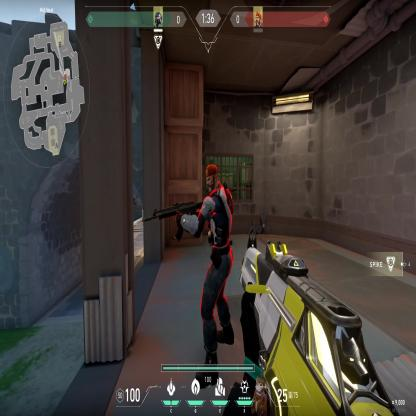enemy: (173, 162, 238, 364)
